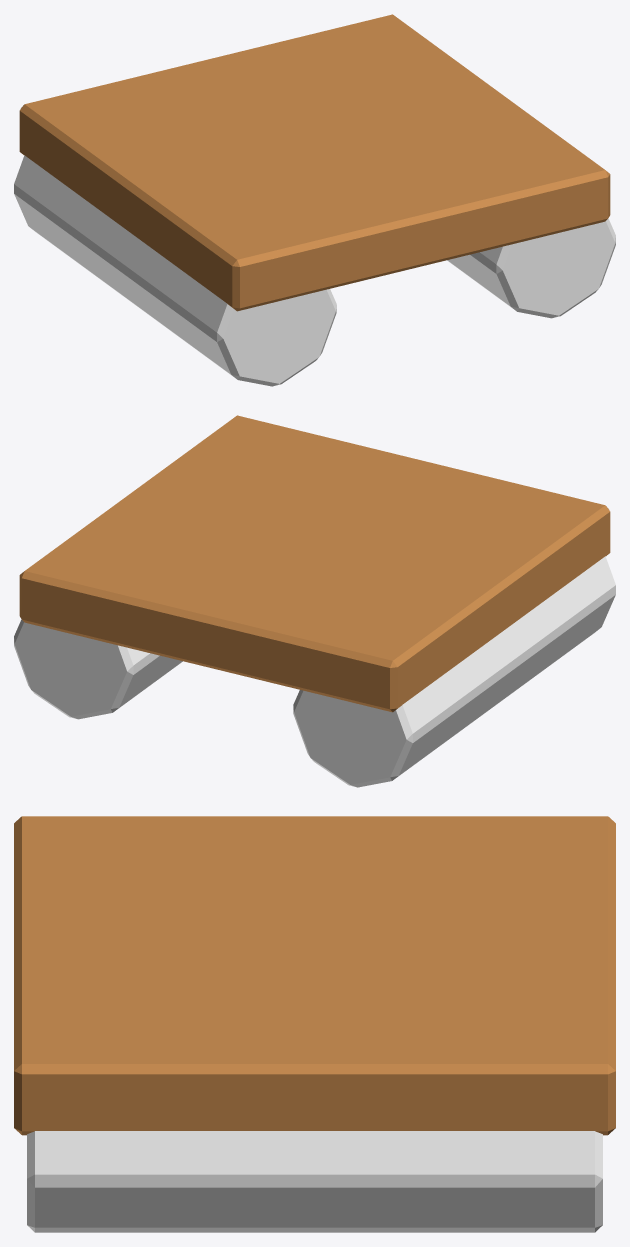
The model's file is floating_platform.glb.
3 views of the same model, one above another, from view 1: azimuth 30°, elevation 25°; view 2: azimuth 150°, elevation 25°; view 3: azimuth 270°, elevation 25° (orthographic). The views are drawn at different scales.
Parts seen in each view (by area): view 1: floating_platform; view 2: floating_platform; view 3: floating_platform.
Boxes of the visible parts, left/top/right/bottom form: floating_platform: left=14, top=14, right=615, bottom=386; floating_platform: left=14, top=415, right=615, bottom=787; floating_platform: left=14, top=816, right=615, bottom=1232.
Bounding box in the file's own units: 0.4854 × 0.1627 × 0.46.
